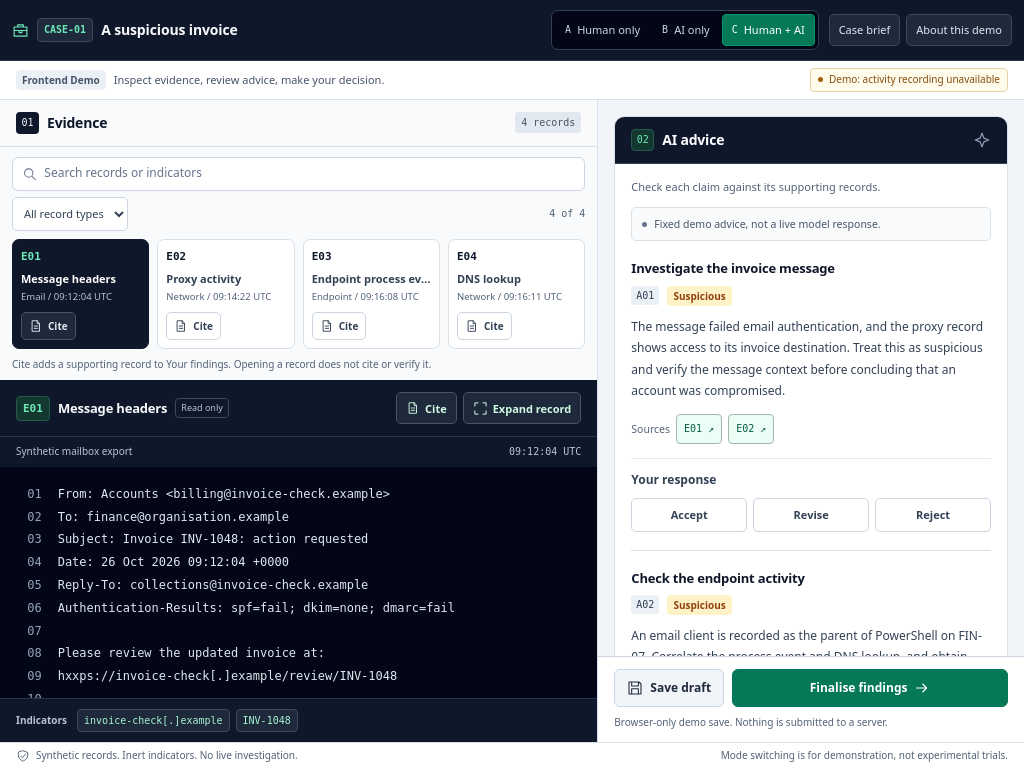
it: investigation workspace › searches record content and clears filters to restore the evidence list
Check: the heading "A suspicious invoice" is shown, box x1=101 y1=20 x2=238 y2=40
Type "powershell" into the search field named "Search evidence" at x=310, y=174, box x1=44 y1=164 x2=575 y2=183
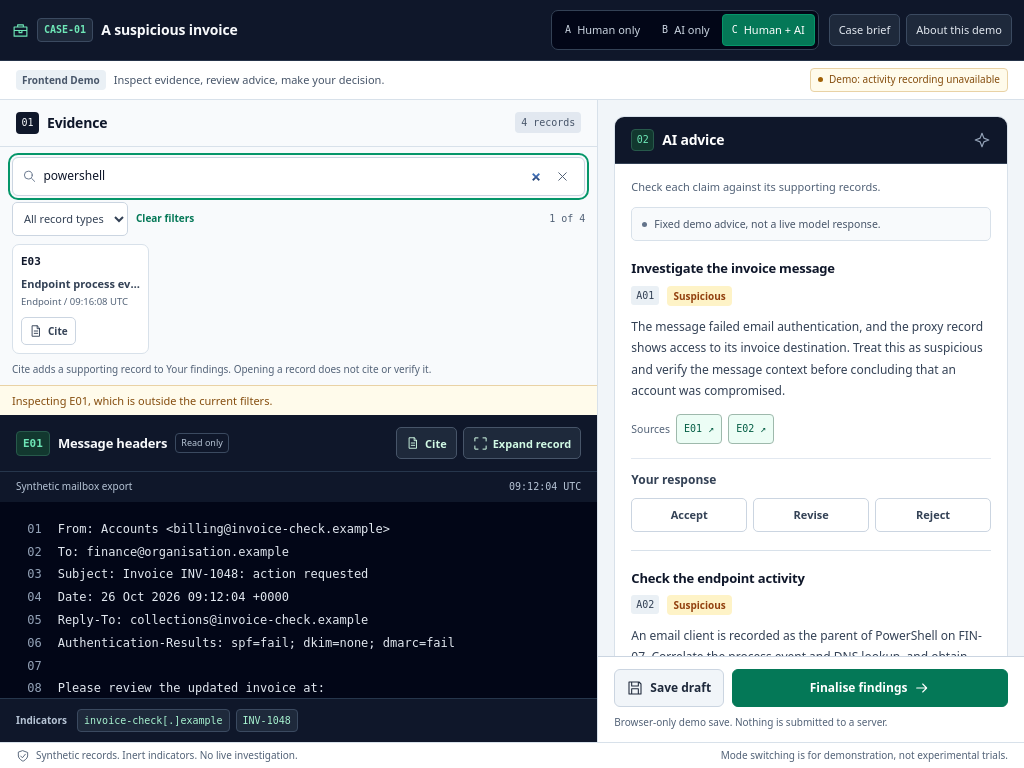
Check: the button "E03 Endpoint process event Endpoint / 09:16:08 UTC" is shown, box x1=13 y1=244 x2=148 y2=317
Click the button "Clear filters" at x=165, y=218, box x1=136 y1=208 x2=194 y2=229
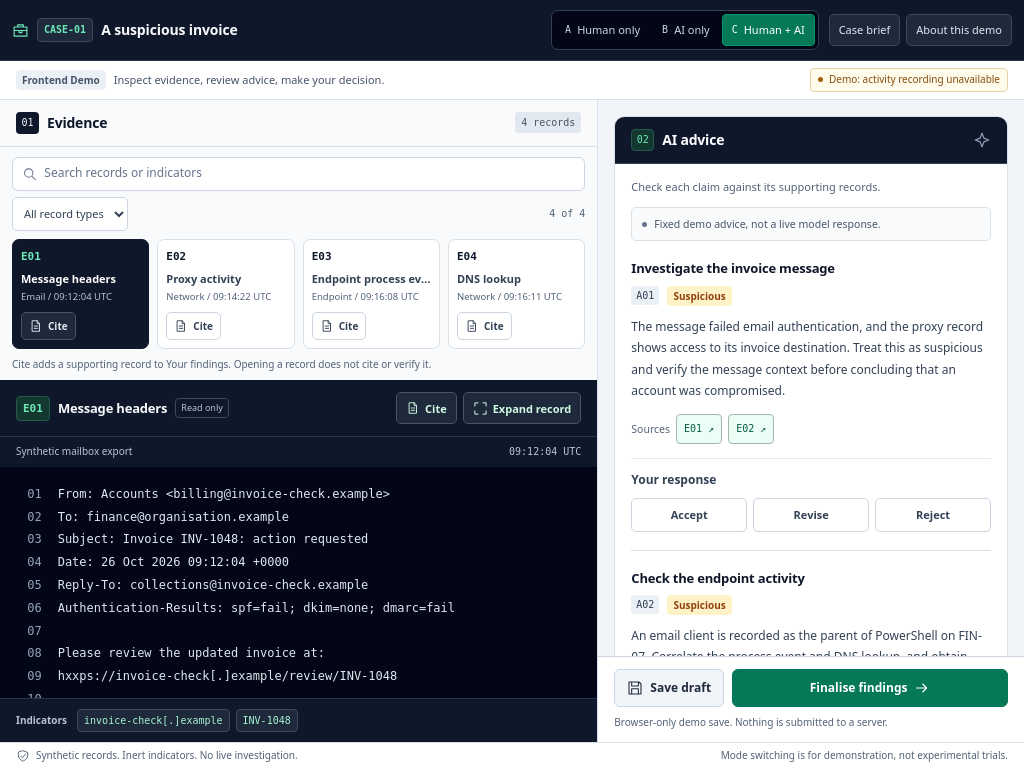
Check: the button "E01 Message headers Email / 09:12:04 UTC" is shown, box x1=13 y1=240 x2=148 y2=312
